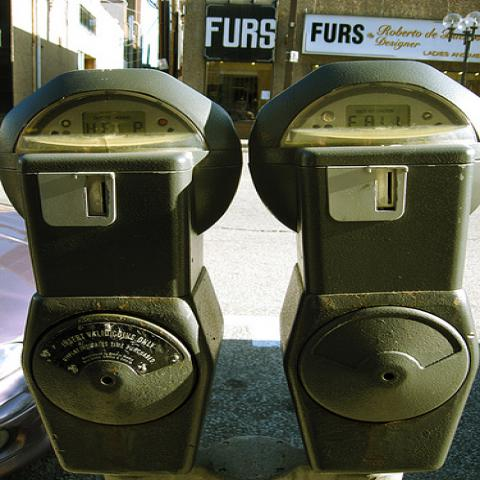car: (0, 182, 53, 479)
